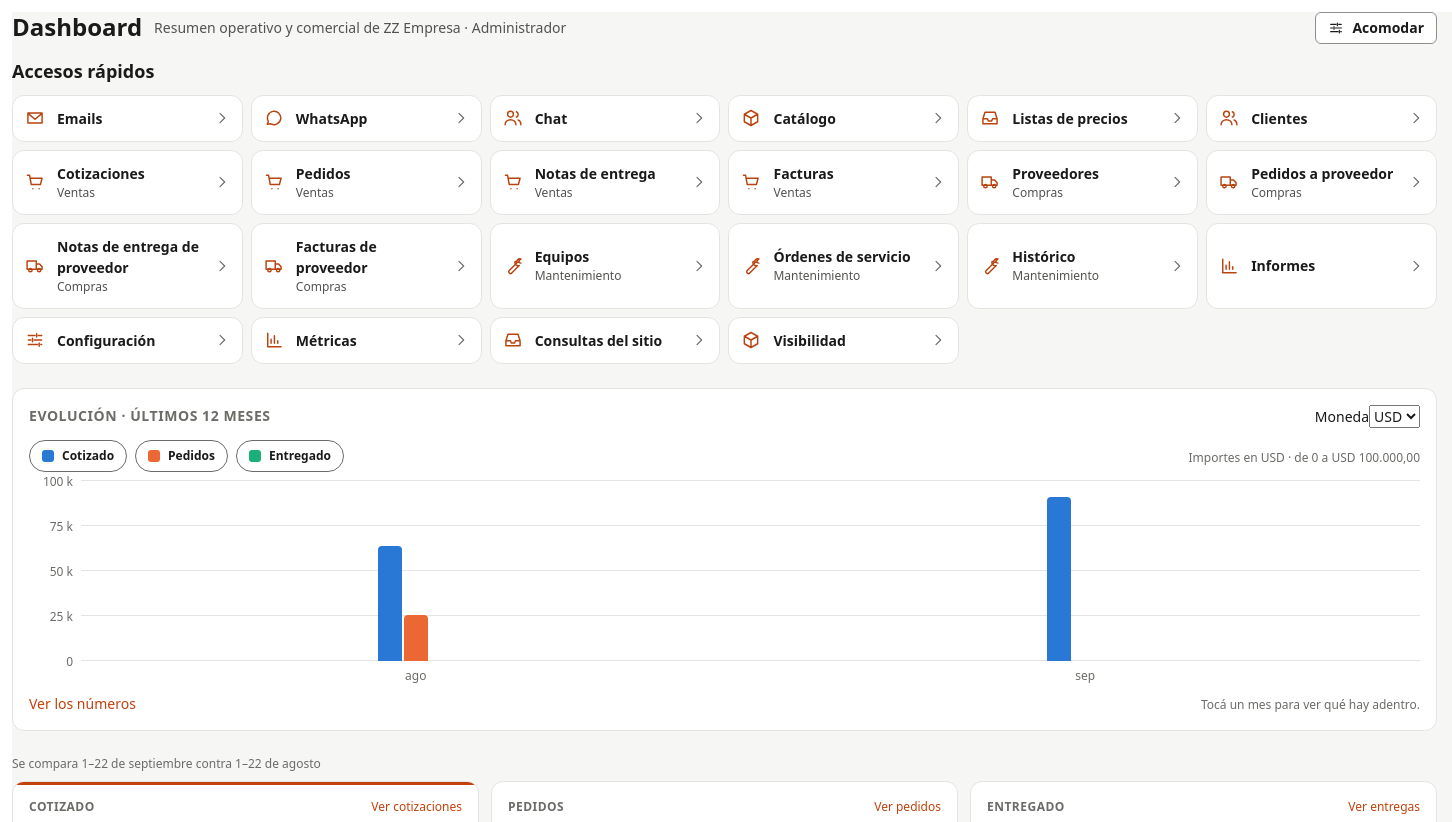
Test: D · La evolución › el selector de moneda no mezcla: elige una
The width and height of the screenshot is (1452, 822).
Expected: the text "Importes en USD · de 0 a USD 100.000,00" is shown, x1=1188 y1=448 x2=1420 y2=466
Select "ARS" in the dropdown labelled "Moneda" at (1394, 416), box x1=1369 y1=404 x2=1420 y2=428
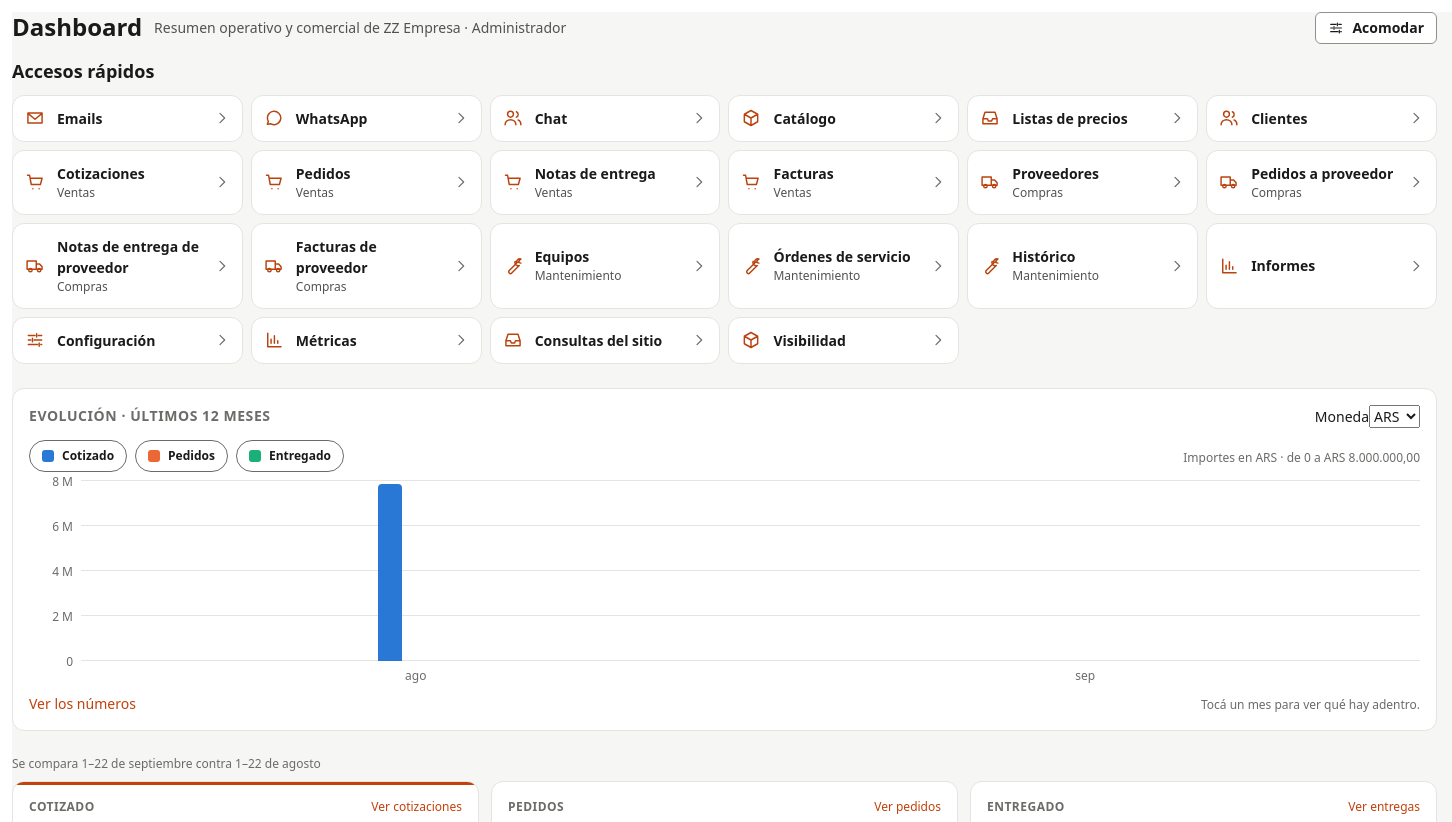
Result: the text "Importes en ARS · de 0 a ARS 8.000.000,00" is shown at x1=1183 y1=448 x2=1420 y2=466
